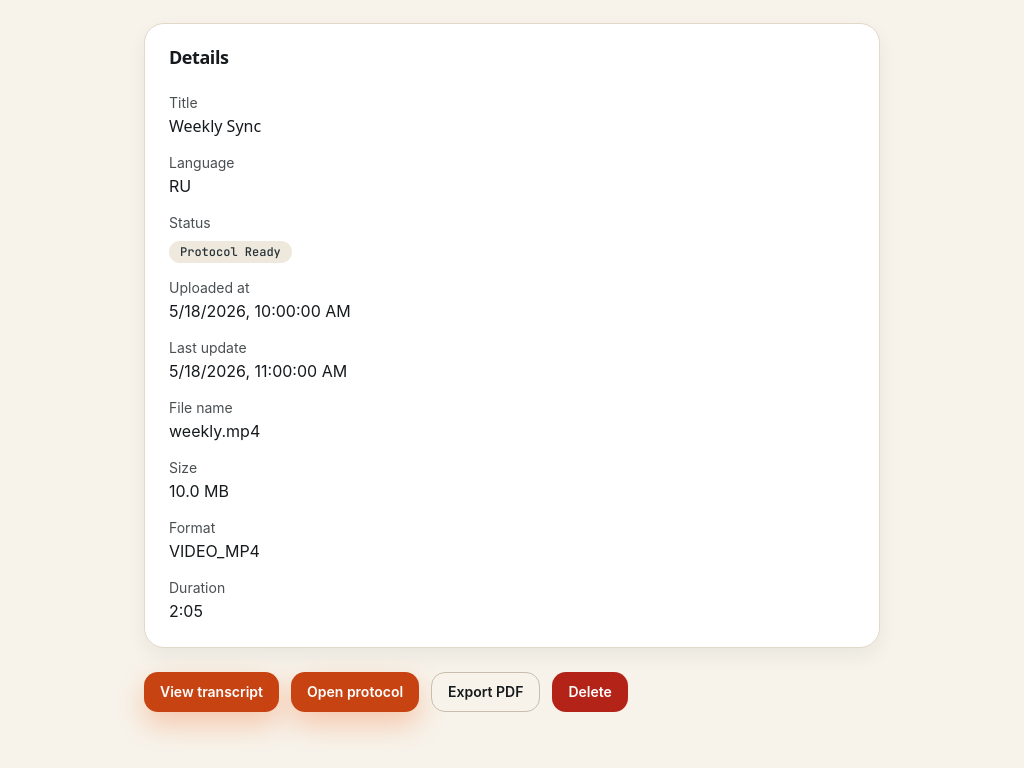
Test: MeetingDetailPage › UC-003 CT01: shows meeting title in delete dialog
(page scrolled)
Click the button with test id "btn-delete". click: (590, 692)
box: [552,672,628,712]
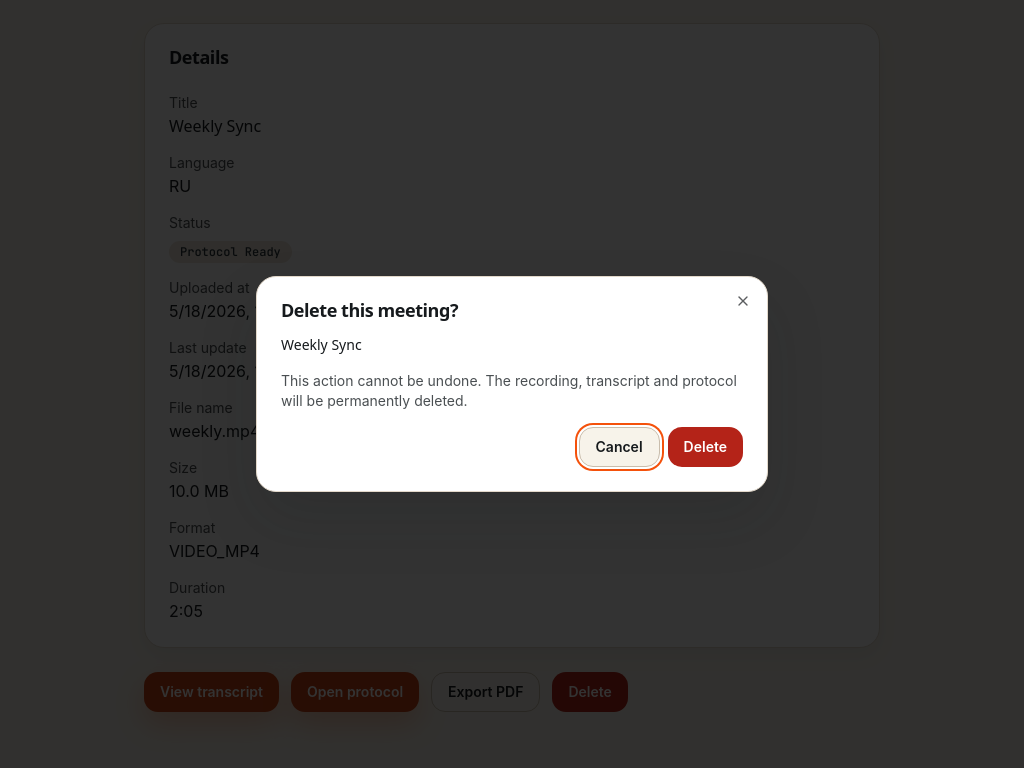
Expected: the text with test id "delete-dialog-meeting-title" reads "Weekly Sync", [281,335,362,354]
